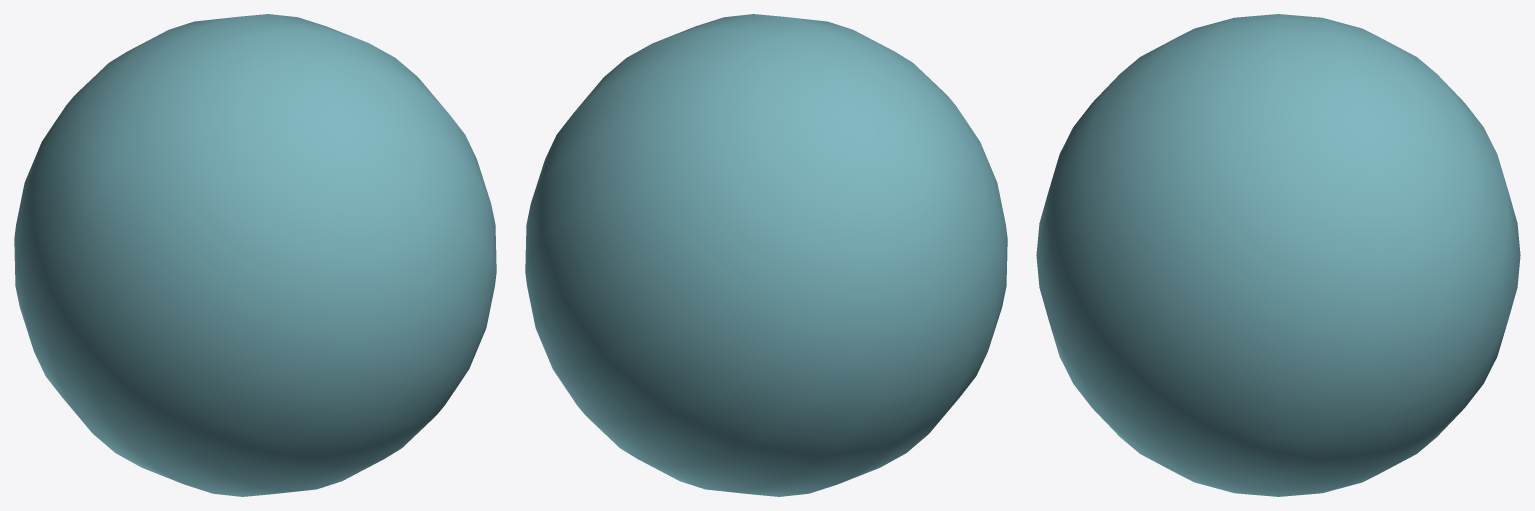
The model's file is Bubble_level2.fbx.
The picture shows the model from 3 angles, left to right: view 1: azimuth 30°, elevation 25°; view 2: azimuth 150°, elevation 25°; view 3: azimuth 270°, elevation 25°; orthographic projection.
Visible parts, largest first — view 1: bubble; view 2: bubble; view 3: bubble.
Boxes of the visible parts, x1,y1,x2,y2 form: bubble: (14,14,496,496); bubble: (525,14,1007,496); bubble: (1036,14,1520,496).
Size of the model in its own units: 99.85 by 99.85 by 100.
